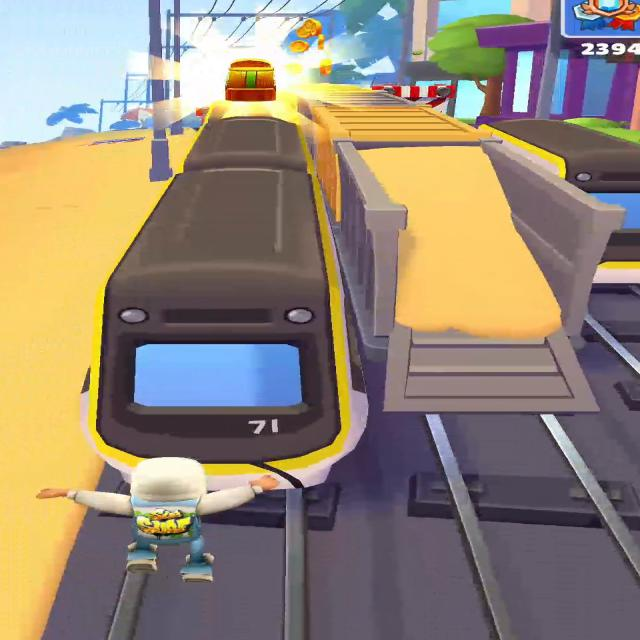climber: (359, 146, 598, 414)
train: (82, 117, 367, 490), (480, 120, 639, 284)
